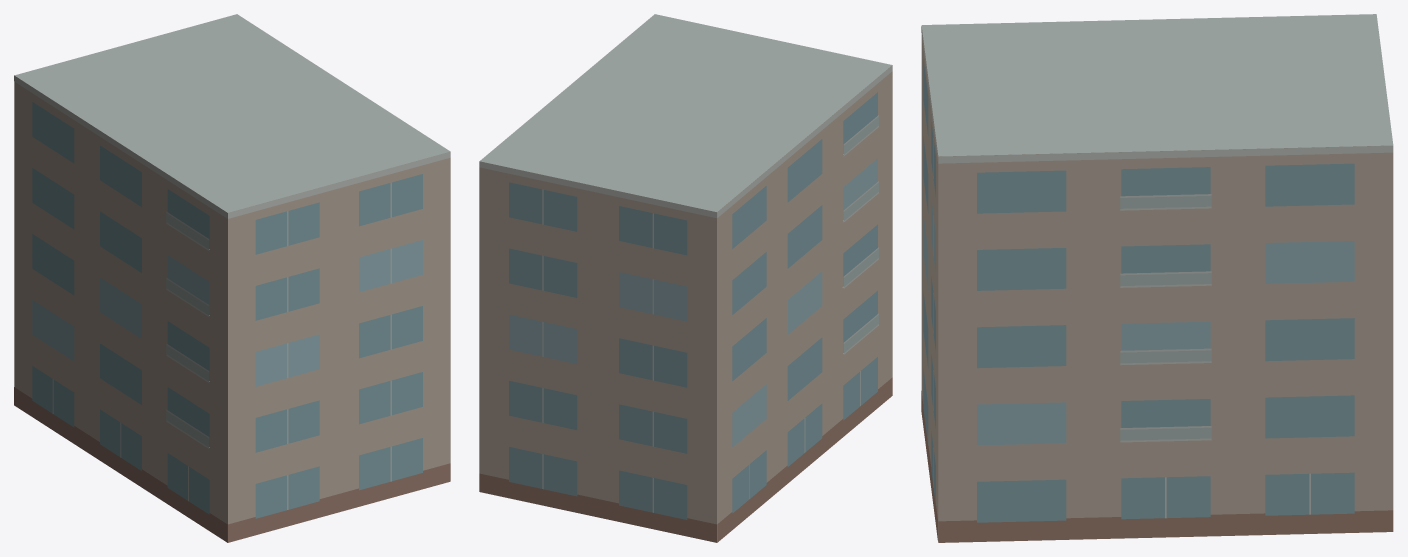
File: survey-upis-32698625.glb
The picture shows the model from 3 angles, left to right: view 1: azimuth 30°, elevation 25°; view 2: azimuth 150°, elevation 25°; view 3: azimuth 270°, elevation 25°; orthographic projection. The views are drawn at different scales.
Parts seen in each view (by area): view 1: survey-upis-32698625.tmp; view 2: survey-upis-32698625.tmp; view 3: survey-upis-32698625.tmp.
Part boxes in pixels (<box>): survey-upis-32698625.tmp: <box>14,14,450,542</box>; survey-upis-32698625.tmp: <box>479,14,892,542</box>; survey-upis-32698625.tmp: <box>921,14,1393,542</box>.
Bounding box in the file's own units: 10.49 × 13.25 × 14.68.
